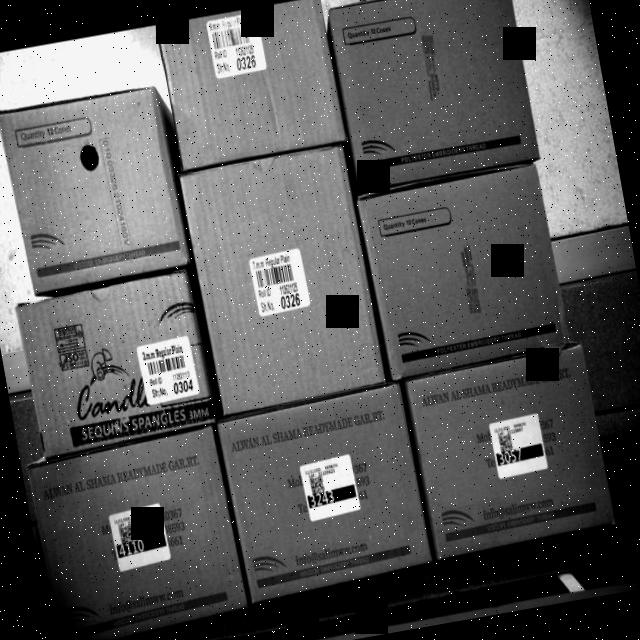box: (179, 144, 387, 410), (22, 433, 247, 640), (219, 386, 432, 596), (360, 162, 570, 372), (407, 350, 616, 560), (0, 83, 191, 295), (330, 0, 539, 190), (13, 272, 212, 453), (156, 0, 345, 171)
